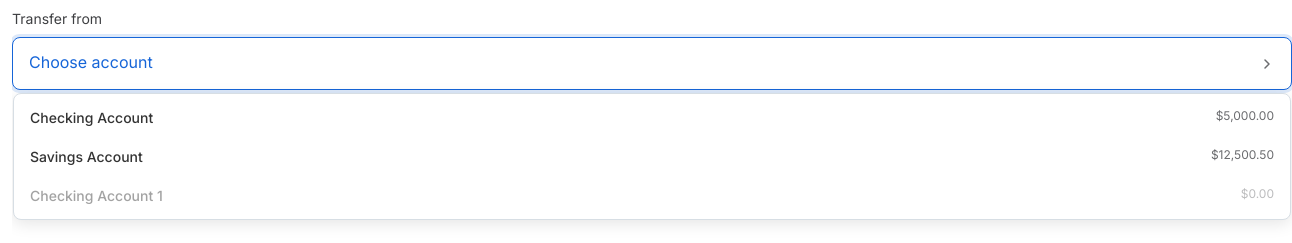
AccountPickerDropdown – interaction › selects an account and closes the dropdown when an option is clicked
What coordinates should you click on to do the following:
click the option "Checking Account $5,000.00"
I would click on:
 (92, 117)
Its box is [30,108,1274,126].
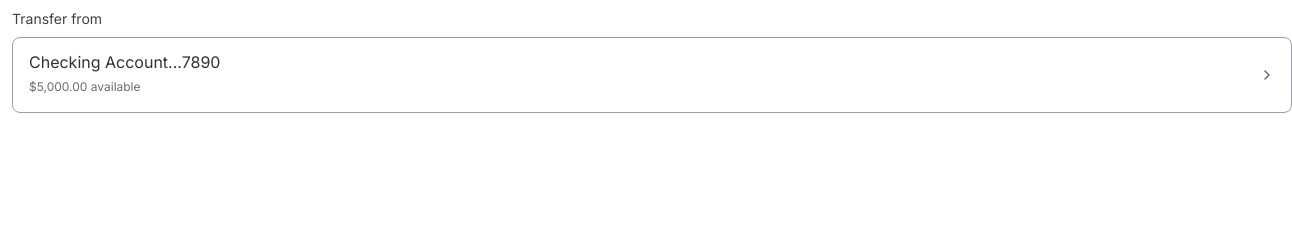
Now the list is gone
